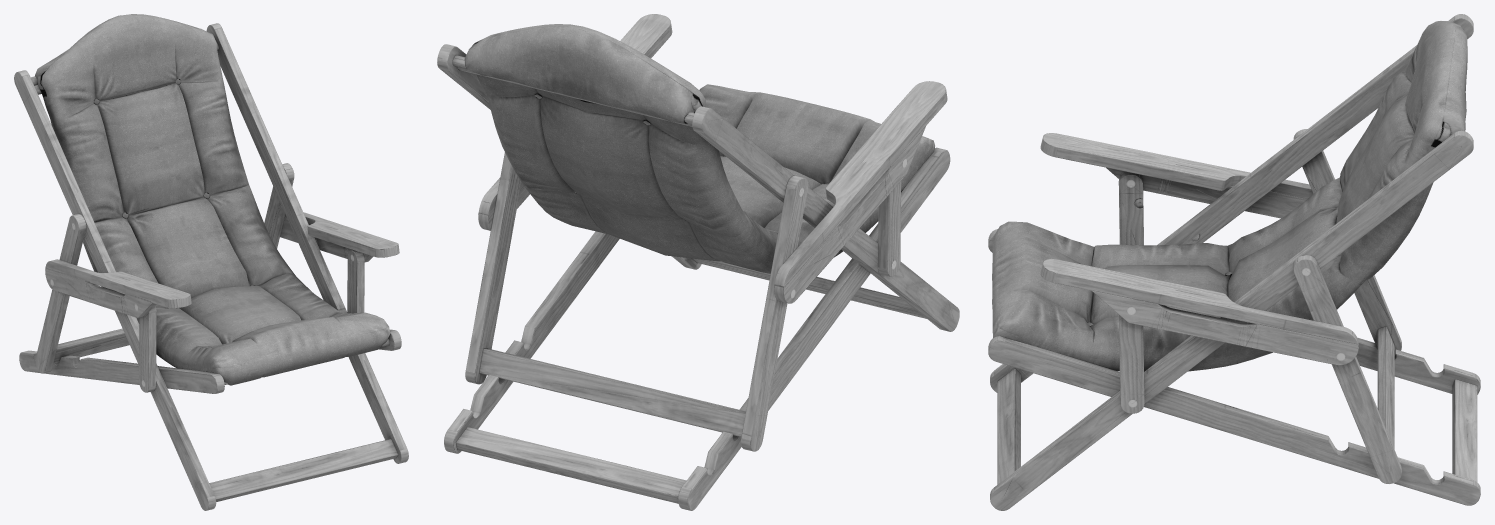
The model's file is SinteponС2.glb.
The picture shows the model from 3 angles, left to right: view 1: azimuth 30°, elevation 25°; view 2: azimuth 150°, elevation 25°; view 3: azimuth 270°, elevation 25°; orthographic projection. The views are drawn at different scales.
Visible parts, largest first — view 1: Sun_Lounger_v2_fabric_part, Sun_Lounger_v2_wood_part; view 2: Sun_Lounger_v2_wood_part, Sun_Lounger_v2_fabric_part; view 3: Sun_Lounger_v2_wood_part, Sun_Lounger_v2_fabric_part.
Part boxes in pixels (x1,y1,x2,y2): Sun_Lounger_v2_fabric_part: (35, 14, 390, 385); Sun_Lounger_v2_wood_part: (14, 23, 408, 510); Sun_Lounger_v2_wood_part: (437, 14, 959, 510); Sun_Lounger_v2_fabric_part: (464, 24, 934, 273); Sun_Lounger_v2_wood_part: (988, 14, 1480, 510); Sun_Lounger_v2_fabric_part: (992, 21, 1467, 371).
Size of what is drawn, in the model's own units: 0.759 by 1.06 by 1.13.
2 materials, 2 textured.
